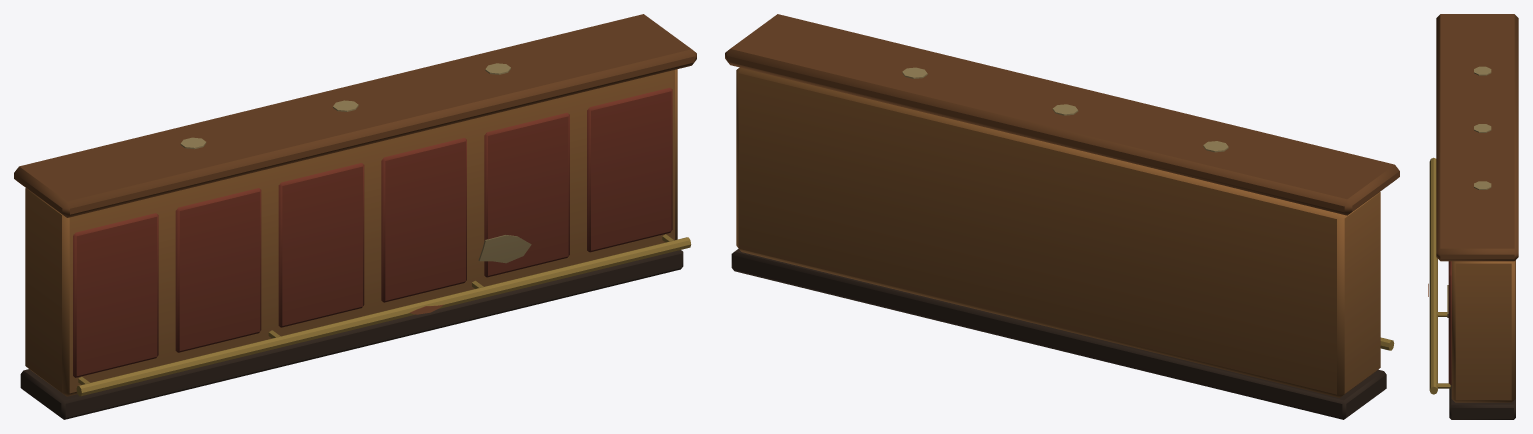
File: 57_comptoir_bar.fbx
3 views of the same model, side by side, from view 1: azimuth 30°, elevation 25°; view 2: azimuth 150°, elevation 25°; view 3: azimuth 270°, elevation 25° (orthographic). The views are drawn at different scales.
Visible parts, largest first — view 1: Comptoir, ReposePieds; view 2: Comptoir; view 3: Comptoir, ReposePieds.
Boxes of the visible parts, bbox=[...] form: Comptoir: bbox=[14, 14, 696, 419]; ReposePieds: bbox=[76, 234, 691, 396]; Comptoir: bbox=[725, 14, 1399, 419]; Comptoir: bbox=[1436, 14, 1518, 419]; ReposePieds: bbox=[1428, 157, 1450, 394].
Bounding box in the file's own units: 2.8 × 0.952 × 0.448.
1 material, 1 textured.
